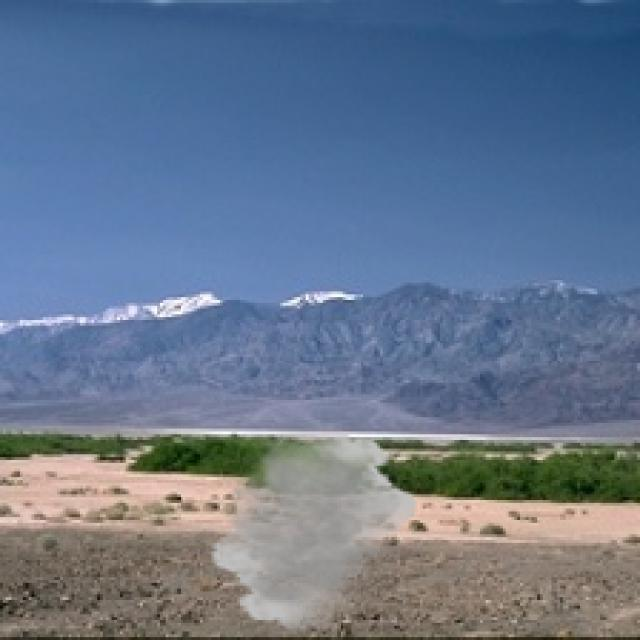Smoke: (208, 426, 420, 634)
